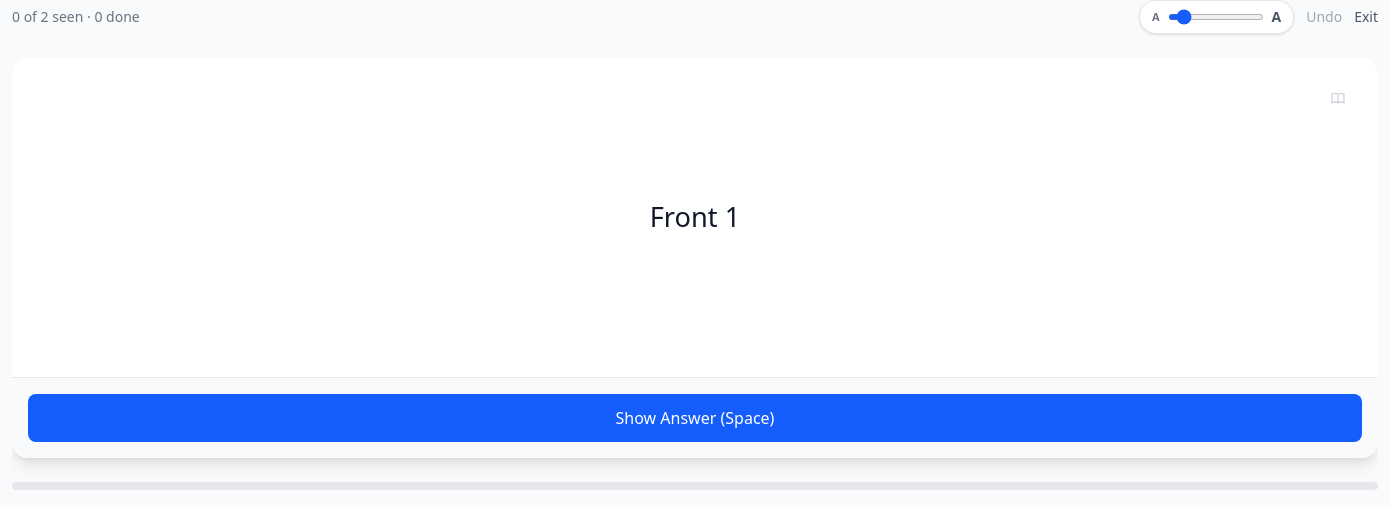
Scenario: FlashcardReview › advances after rating and submits review
The width and height of the screenshot is (1390, 507).
Click the button "Show Answer (Space)" at (695, 418), box [28,394,1362,442]
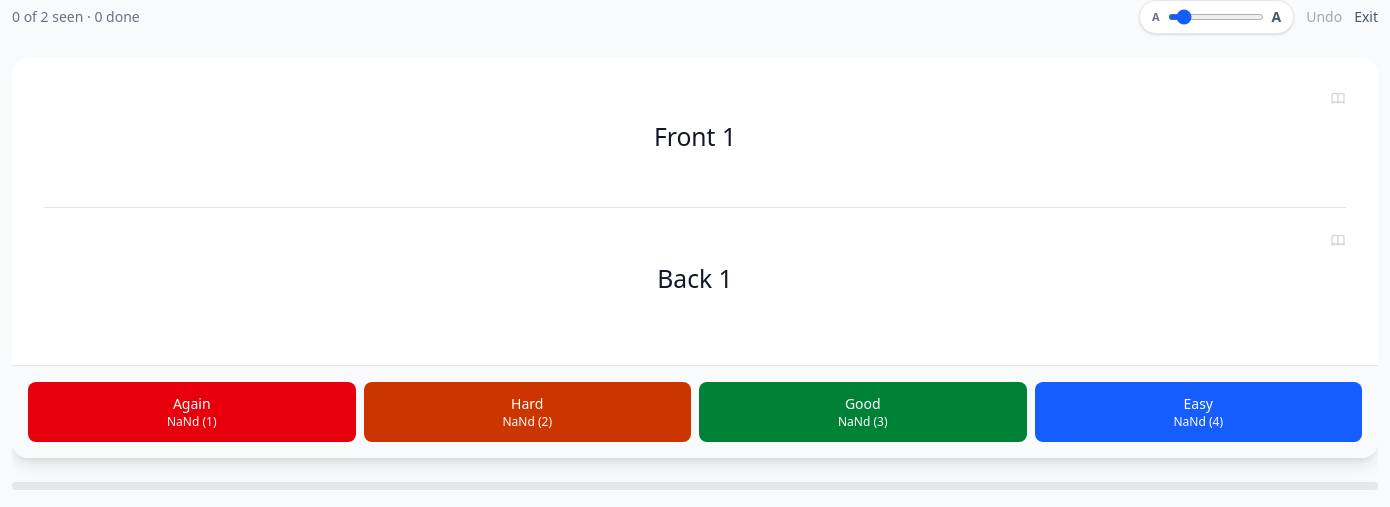
Click the button "Good NaNd (3)" at (863, 412), box [699,382,1026,442]
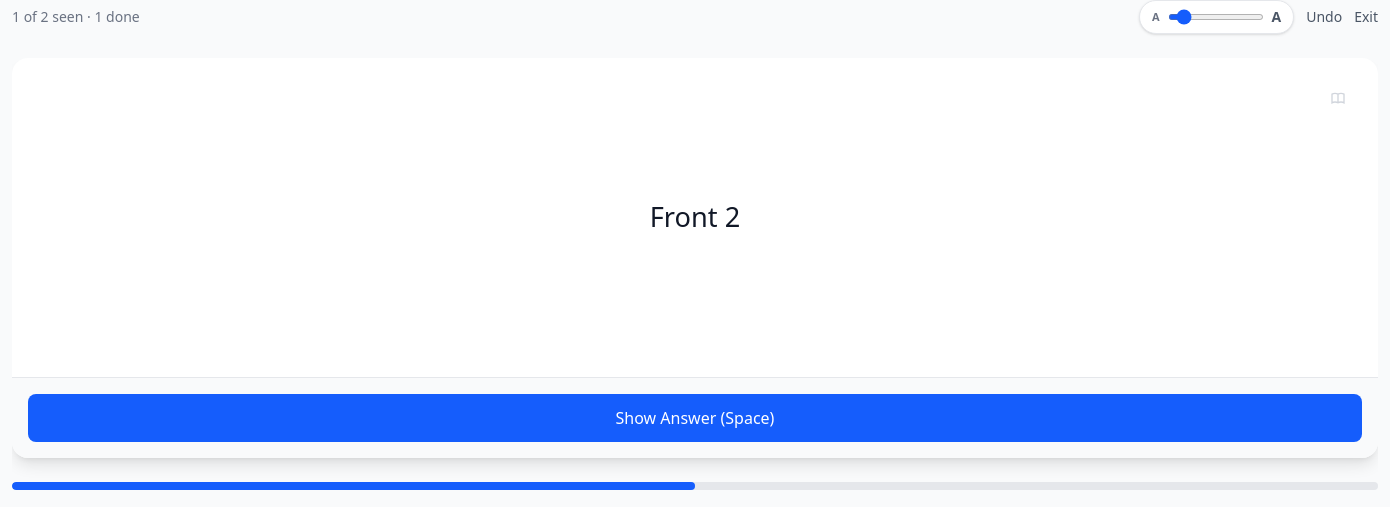
Result: the text "1 of 2 seen · 1 done" is shown at [12,7,140,27]
